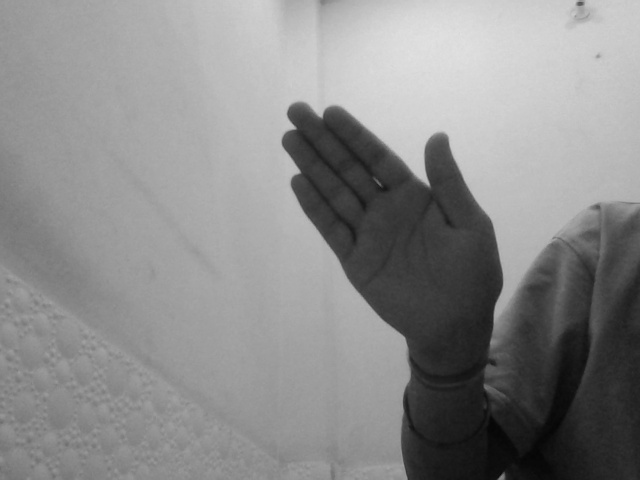Hello: (279, 99, 499, 365)
